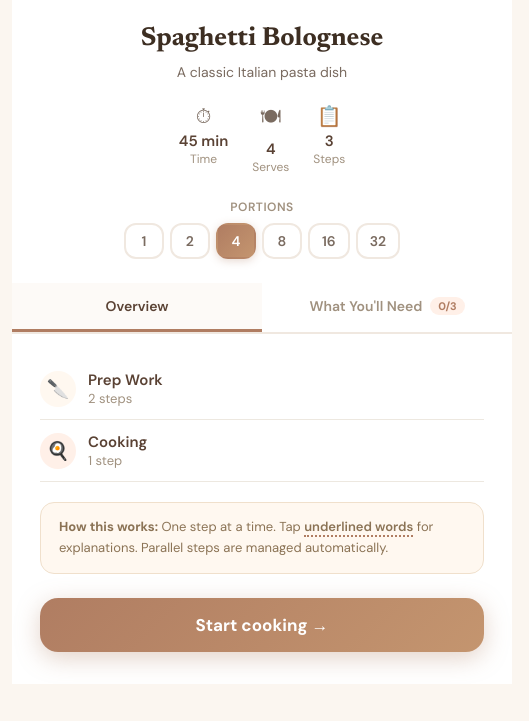
Test case: RecipeIntro › switches back to overview tab
Step 1. Click the button "What You'll Need 0/3" → x=387, y=308, box [262,283,512,332]
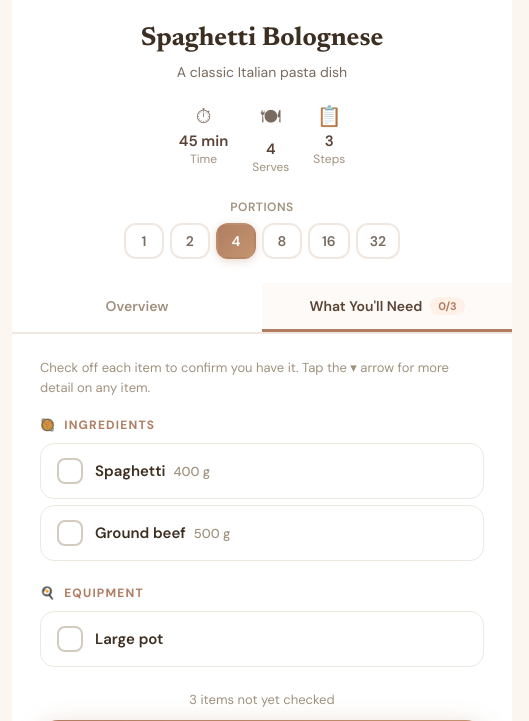
Step 2. Click the button "Overview" → x=137, y=308, box [12,283,262,332]
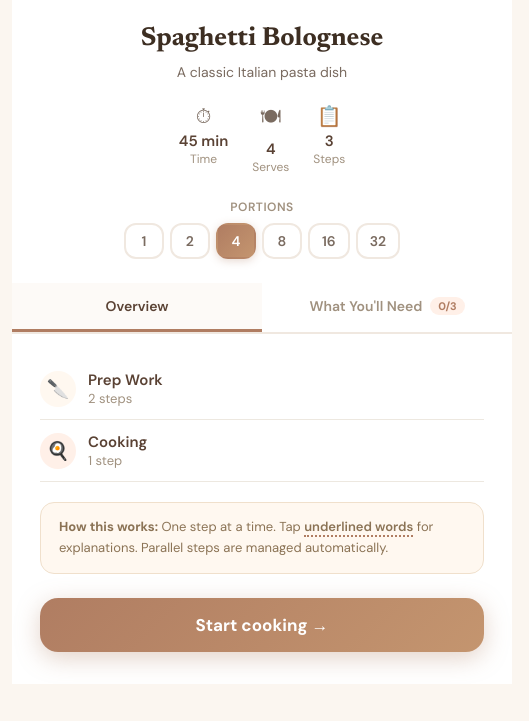
Now the text "Prep Work" is shown, box [88,370,163,390]
Now the text "Check off each item" is gone
